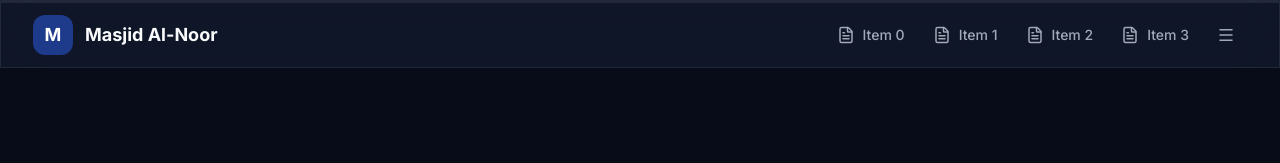
Test: Header › shows overflow dropdown on hamburger click
Click the button named "More navigation items": (1226, 35) [1205, 18, 1247, 52]
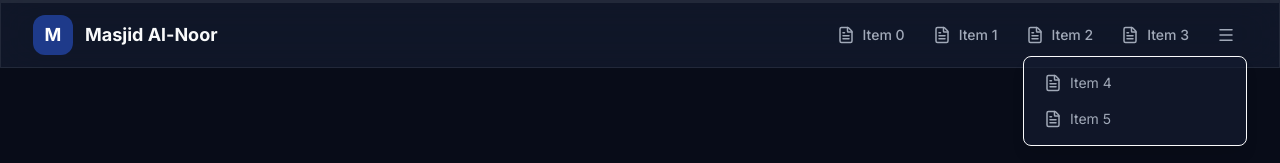
Expected: the element with id "nav-dropdown" is shown, [1023, 56, 1247, 146]
Expected: the element with id "nav-dropdown" shows "Item 4", [1032, 65, 1238, 101]
Expected: the element with id "nav-dropdown" shows "Item 5", [1032, 101, 1238, 137]
